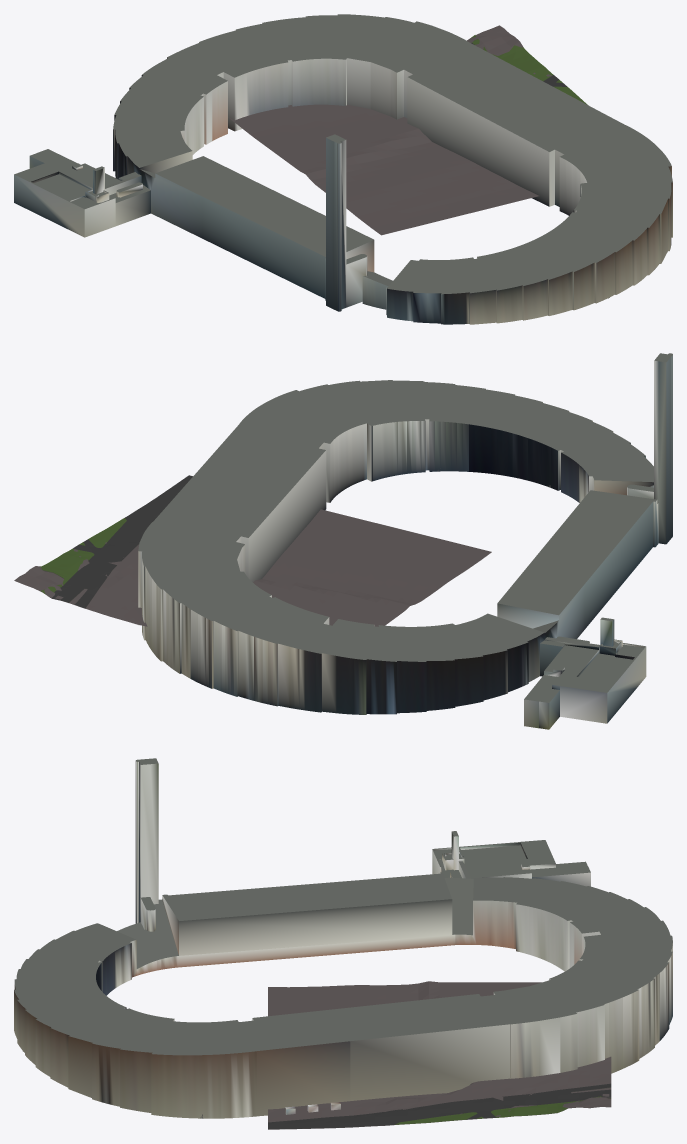
3 views of the same model, one above another, from view 1: azimuth 30°, elevation 25°; view 2: azimuth 150°, elevation 25°; view 3: azimuth 270°, elevation 25° (orthographic). The views are drawn at different scales.
Visible parts, largest first — view 1: c_m11_m16; view 2: c_m11_m16; view 3: c_m11_m16.
Part boxes in pixels (x1,y1,x2,y2): c_m11_m16: (14,14,672,324); c_m11_m16: (14,353,672,729); c_m11_m16: (14,758,672,1129).
Bounding box in the file's own units: 236 × 73.72 × 246.
